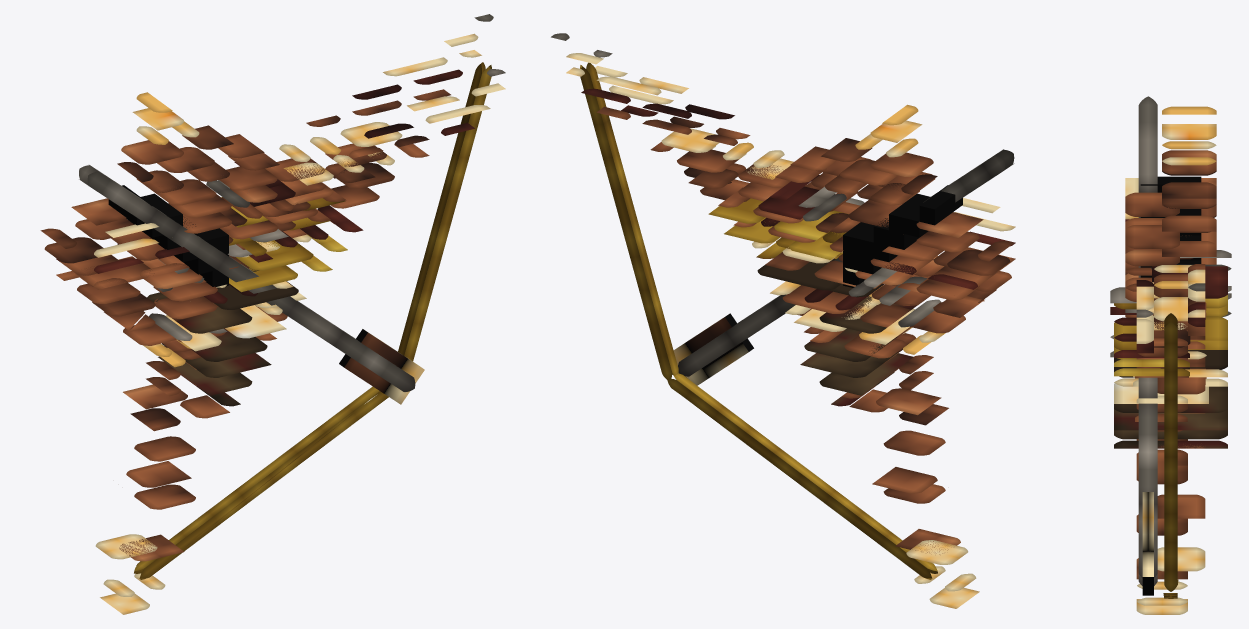
Rendered from dragonbreath_bow_pulling_2.obj.
The picture shows the model from 3 angles, left to right: view 1: azimuth 30°, elevation 25°; view 2: azimuth 150°, elevation 25°; view 3: azimuth 270°, elevation 25°; orthographic projection. The views are drawn at different scales.
Visible parts, largest first — view 1: lit, fire; view 2: lit, fire; view 3: lit, fire.
Boxes of the visible parts, box(x1,y1,x2,y2) form: lit: box(40, 14, 505, 614); fire: box(108, 185, 424, 404); lit: box(551, 33, 1015, 608); fire: box(673, 185, 962, 385); lit: box(1110, 96, 1231, 614); fire: box(1140, 176, 1201, 595).
Bounding box in the file's own units: 1.01 × 0.9932 × 0.2096.
